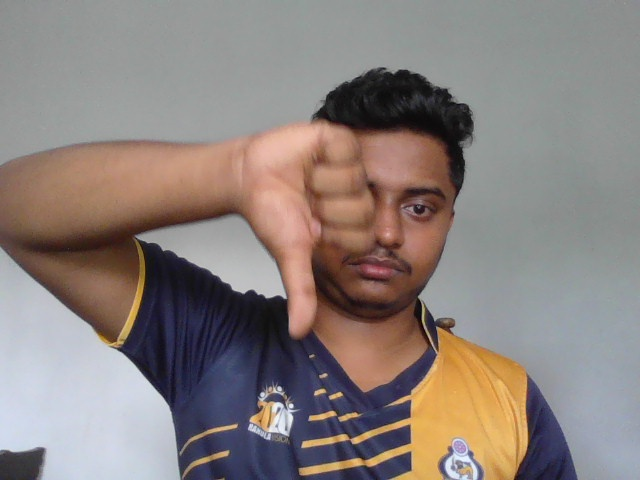Disagree: (238, 119, 377, 342)
